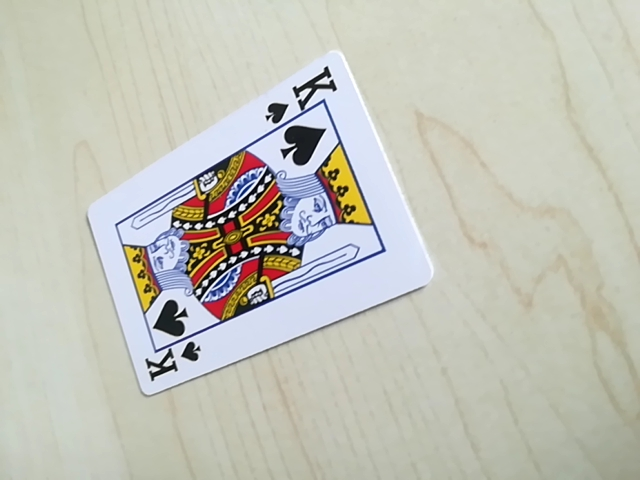ht k: (263, 61, 338, 121), (137, 327, 205, 391)
